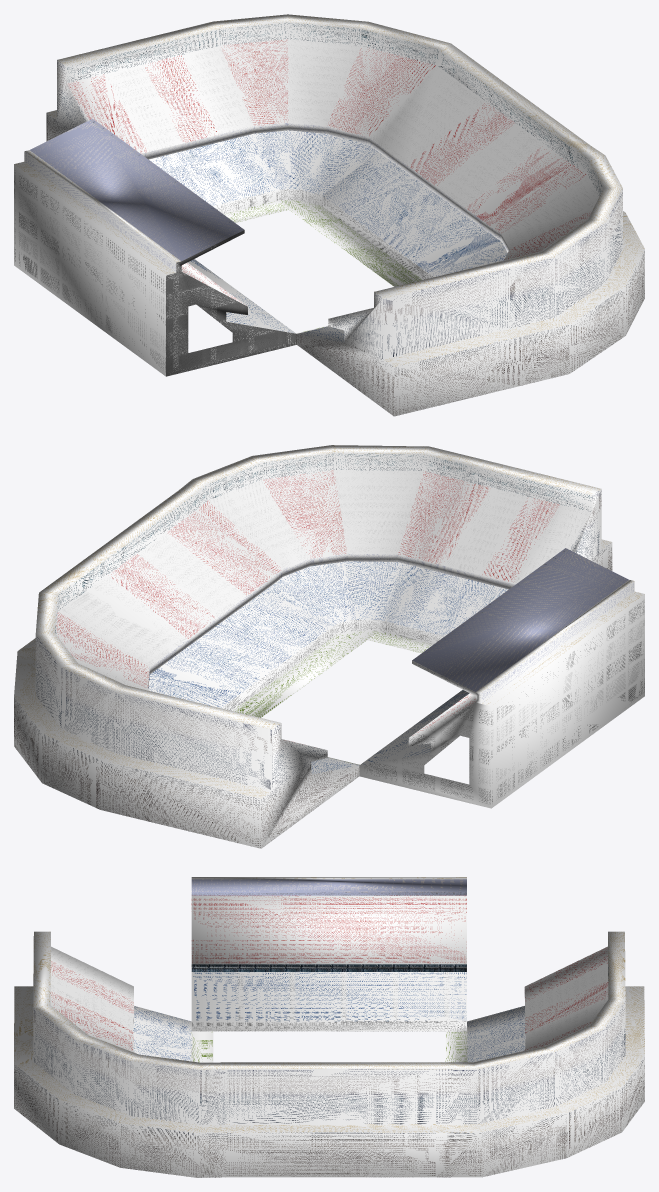
The model's file is stadio.fbx.
3 views of the same model, one above another, from view 1: azimuth 30°, elevation 25°; view 2: azimuth 150°, elevation 25°; view 3: azimuth 270°, elevation 25° (orthographic). The views are drawn at different scales.
Visible parts, largest first — view 1: Model; view 2: Model; view 3: Model.
Boxes of the visible parts, box(x1,y1,x2,y2) form: Model: box(14, 14, 644, 416); Model: box(14, 445, 644, 848); Model: box(14, 877, 644, 1177).
Size of the model in its own units: 467 by 123 by 609.
